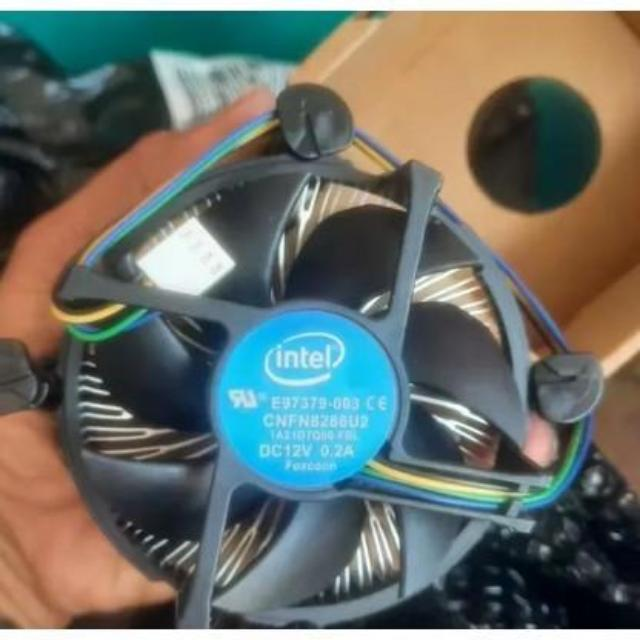CPU_Fan: (43, 90, 526, 639)
